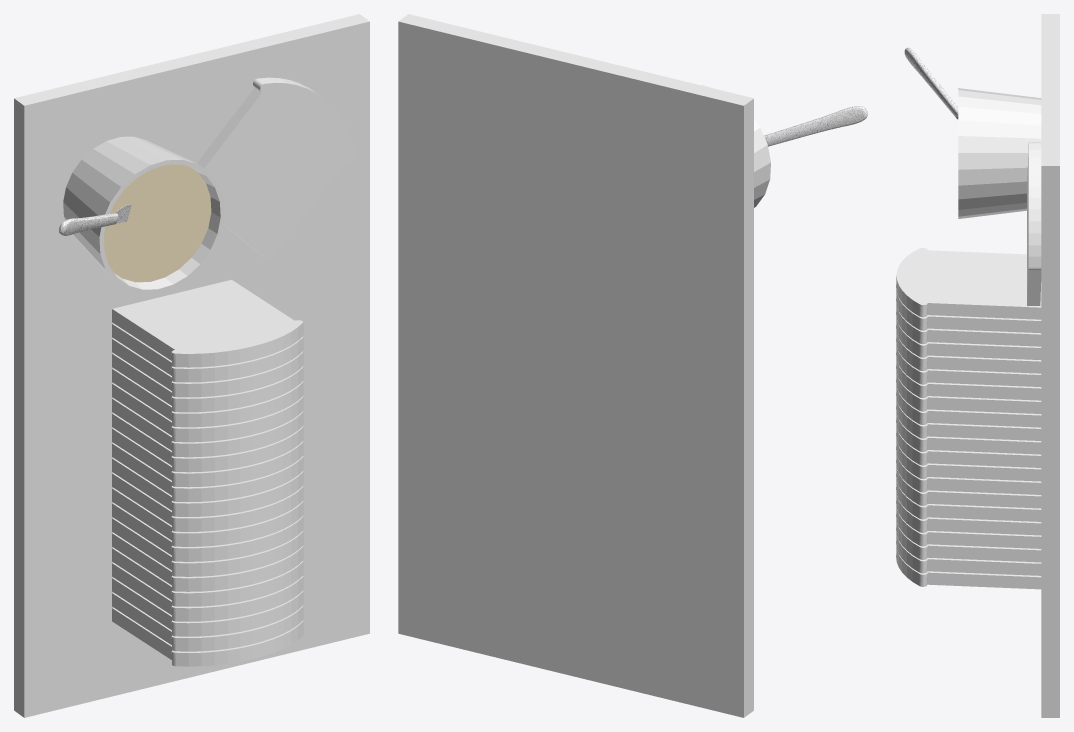
The picture shows the model from 3 angles, left to right: view 1: azimuth 30°, elevation 25°; view 2: azimuth 150°, elevation 25°; view 3: azimuth 270°, elevation 25°; orthographic projection. The views are drawn at different scales.
Visible parts, largest first — view 1: bread; view 2: bread; view 3: bread.
Boxes of the visible parts, x1,y1,x2,y2 form: bread: [14, 14, 369, 717]; bread: [398, 14, 867, 717]; bread: [896, 14, 1059, 717].
Size of the model in its own units: 11.4 by 17.32 by 4.66.
